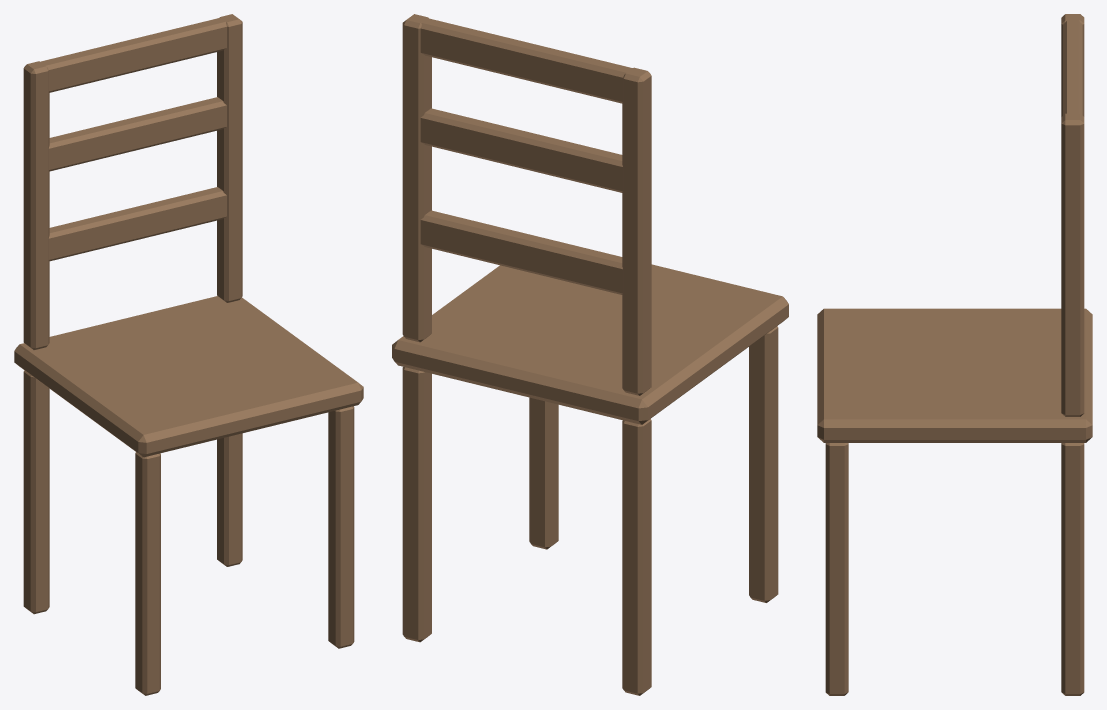
Rendered from chair.fbx.
The picture shows the model from 3 angles, left to right: view 1: azimuth 30°, elevation 25°; view 2: azimuth 150°, elevation 25°; view 3: azimuth 270°, elevation 25°; orthographic projection. The views are drawn at different scales.
Visible parts, largest first — view 1: Chair; view 2: Chair; view 3: Chair.
Part boxes in pixels (x1,y1,x2,y2): Chair: [14, 14, 363, 695]; Chair: [392, 14, 788, 695]; Chair: [817, 14, 1092, 695].
Bounding box in the file's own units: 0.42 × 0.97 × 0.42.
